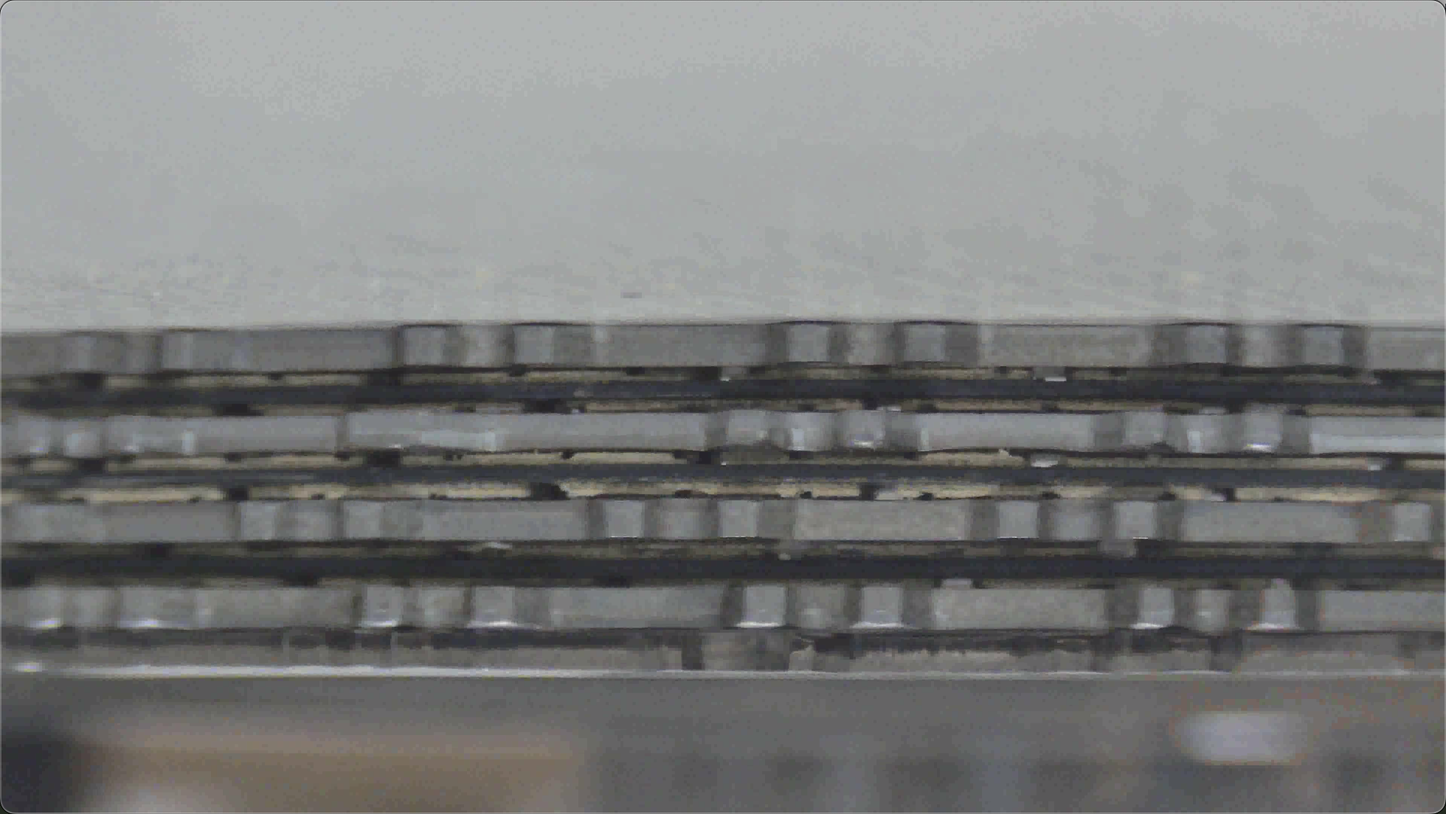Black metal plate: (0, 0, 1363, 363), (0, 322, 1445, 376)
shiney metal plate: (0, 181, 1445, 234), (0, 405, 1445, 456), (0, 269, 1441, 318)
spacer: (72, 88, 1365, 747), (11, 267, 1446, 397), (0, 232, 1445, 260)
